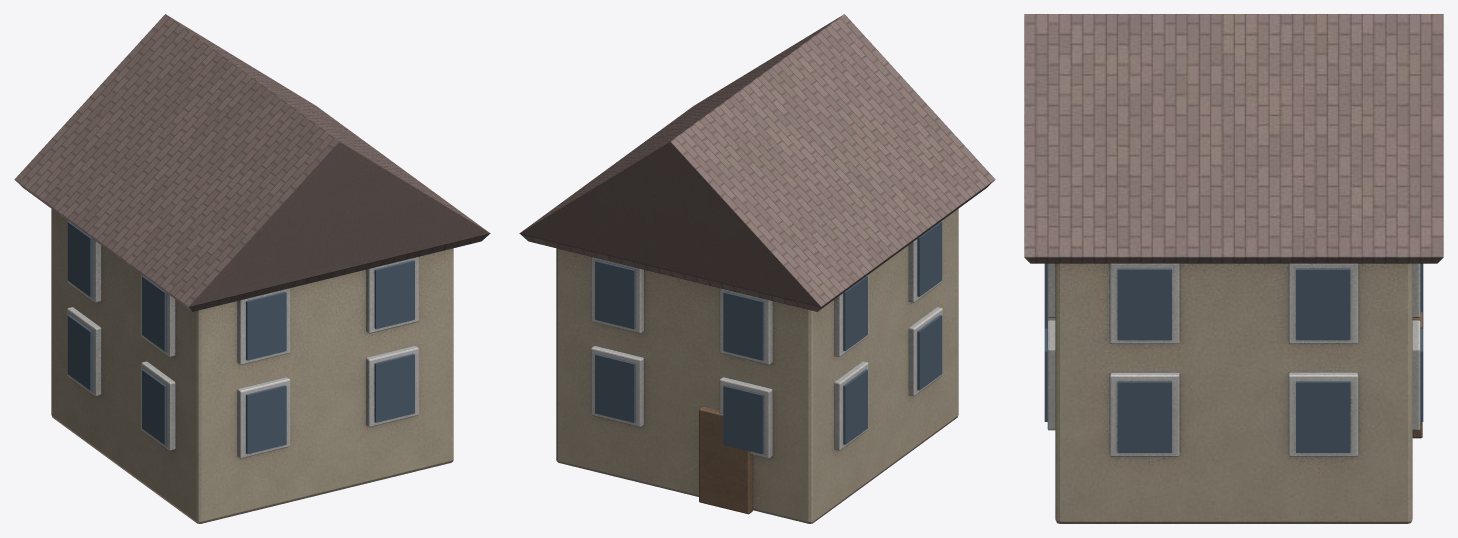
Rendered from reihe_neutral.glb.
The picture shows the model from 3 angles, left to right: view 1: azimuth 30°, elevation 25°; view 2: azimuth 150°, elevation 25°; view 3: azimuth 270°, elevation 25°; orthographic projection. The views are drawn at different scales.
Parts seen in each view (by area): view 1: reihe_neutral, reihe_neutral_details; view 2: reihe_neutral, reihe_neutral_details; view 3: reihe_neutral, reihe_neutral_details.
Part boxes in pixels (left/top/right/bottom): reihe_neutral: left=14, top=14, right=490, bottom=523; reihe_neutral_details: left=67, top=221, right=414, bottom=453; reihe_neutral: left=519, top=14, right=995, bottom=523; reihe_neutral_details: left=595, top=221, right=942, bottom=453; reihe_neutral: left=1024, top=14, right=1443, bottom=523; reihe_neutral_details: left=1044, top=263, right=1423, bottom=452.
Bounding box in the file's own units: 0.54 × 0.62 × 0.54.
Materials: 2 (1 with a texture image).
